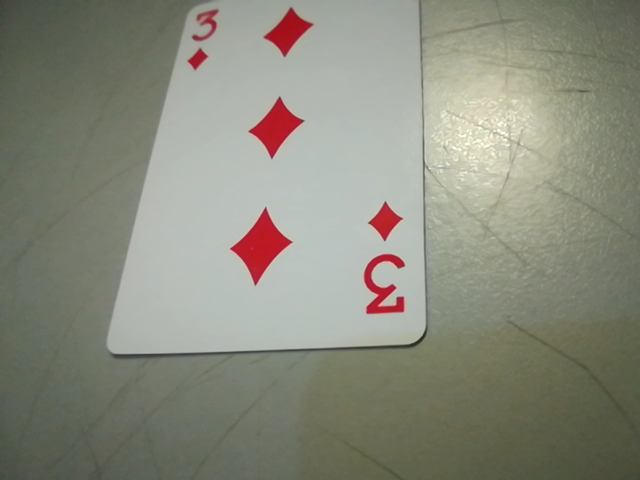fk 3: (349, 194, 417, 327), (175, 0, 226, 75)
